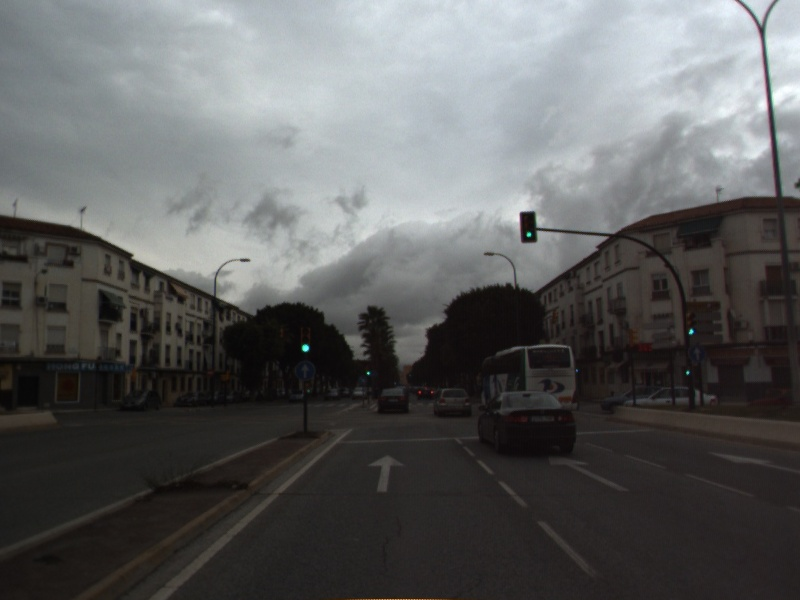STRAIGHT: (547, 453, 633, 494), (706, 449, 800, 475), (365, 452, 407, 494)
